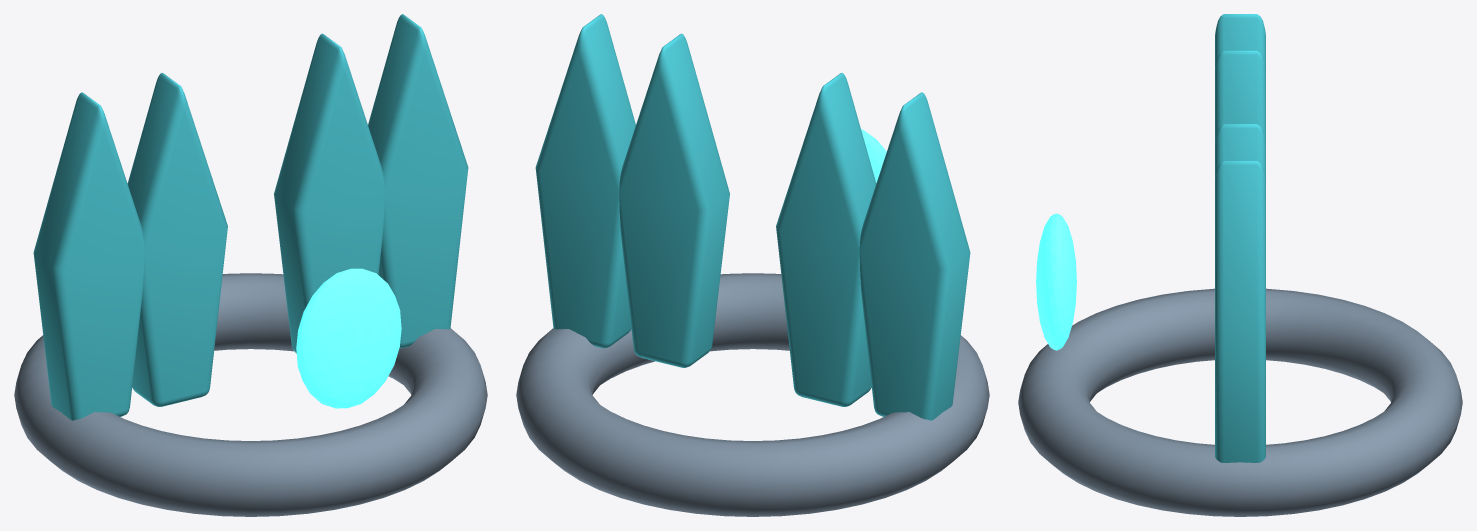
File: crown_v3.glb
3 renders of one model, left to right at view 1: azimuth 30°, elevation 25°; view 2: azimuth 150°, elevation 25°; view 3: azimuth 270°, elevation 25°, orthographic. The views are drawn at different scales.
Visible parts, largest first — view 1: HIGH_CROWN_BAND_PRIMARY, FLEUR_POINT_ACCENT.003, FLEUR_POINT_ACCENT.002, FLEUR_POINT_ACCENT, FLEUR_POINT_ACCENT.001, CROWN_HEART_EMISSIVE; view 2: HIGH_CROWN_BAND_PRIMARY, FLEUR_POINT_ACCENT.001, FLEUR_POINT_ACCENT.003, FLEUR_POINT_ACCENT.002, FLEUR_POINT_ACCENT, CROWN_HEART_EMISSIVE; view 3: HIGH_CROWN_BAND_PRIMARY, FLEUR_POINT_ACCENT, CROWN_HEART_EMISSIVE, FLEUR_POINT_ACCENT.002, FLEUR_POINT_ACCENT.001, FLEUR_POINT_ACCENT.003.
Part boxes in pixels (bbox=[...]): HIGH_CROWN_BAND_PRIMARY: bbox=[14, 273, 487, 516]; FLEUR_POINT_ACCENT.003: bbox=[33, 92, 144, 420]; FLEUR_POINT_ACCENT.002: bbox=[127, 73, 227, 406]; FLEUR_POINT_ACCENT: bbox=[368, 14, 468, 348]; FLEUR_POINT_ACCENT.001: bbox=[274, 33, 384, 353]; CROWN_HEART_EMISSIVE: bbox=[296, 268, 401, 408]; HIGH_CROWN_BAND_PRIMARY: bbox=[516, 273, 989, 516]; FLEUR_POINT_ACCENT.001: bbox=[619, 33, 729, 367]; FLEUR_POINT_ACCENT.003: bbox=[859, 92, 970, 420]; FLEUR_POINT_ACCENT.002: bbox=[776, 73, 876, 406]; FLEUR_POINT_ACCENT: bbox=[535, 14, 635, 348]; CROWN_HEART_EMISSIVE: bbox=[861, 129, 886, 182]; HIGH_CROWN_BAND_PRIMARY: bbox=[1018, 288, 1462, 516]; FLEUR_POINT_ACCENT: bbox=[1215, 161, 1265, 462]; CROWN_HEART_EMISSIVE: bbox=[1036, 213, 1076, 350]; FLEUR_POINT_ACCENT.002: bbox=[1215, 50, 1265, 144]; FLEUR_POINT_ACCENT.001: bbox=[1215, 124, 1265, 180]; FLEUR_POINT_ACCENT.003: bbox=[1215, 14, 1265, 70].
Bounding box in the file's own units: 1.76 × 1.5 × 1.74.
